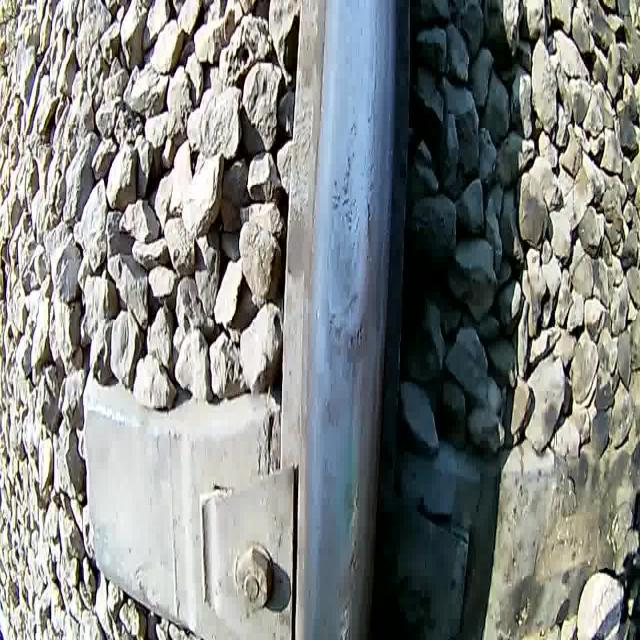Spallings: (344, 316, 370, 356), (362, 193, 376, 258)
Squats: (316, 142, 379, 437)
